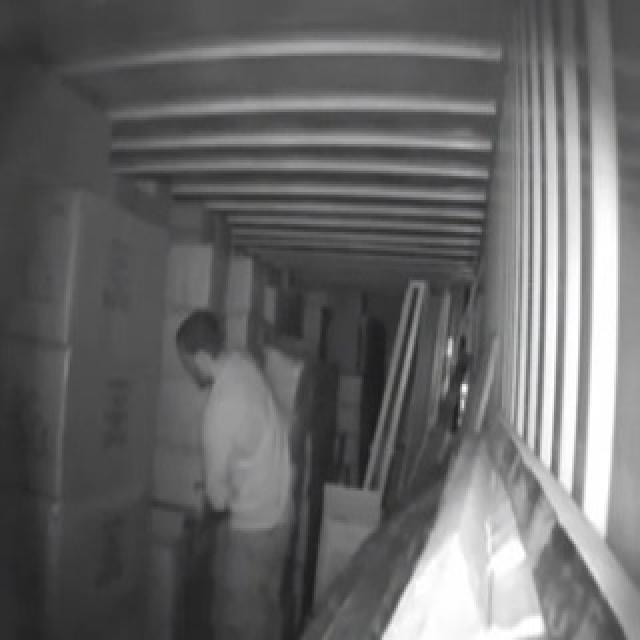thief: (157, 301, 306, 616)
